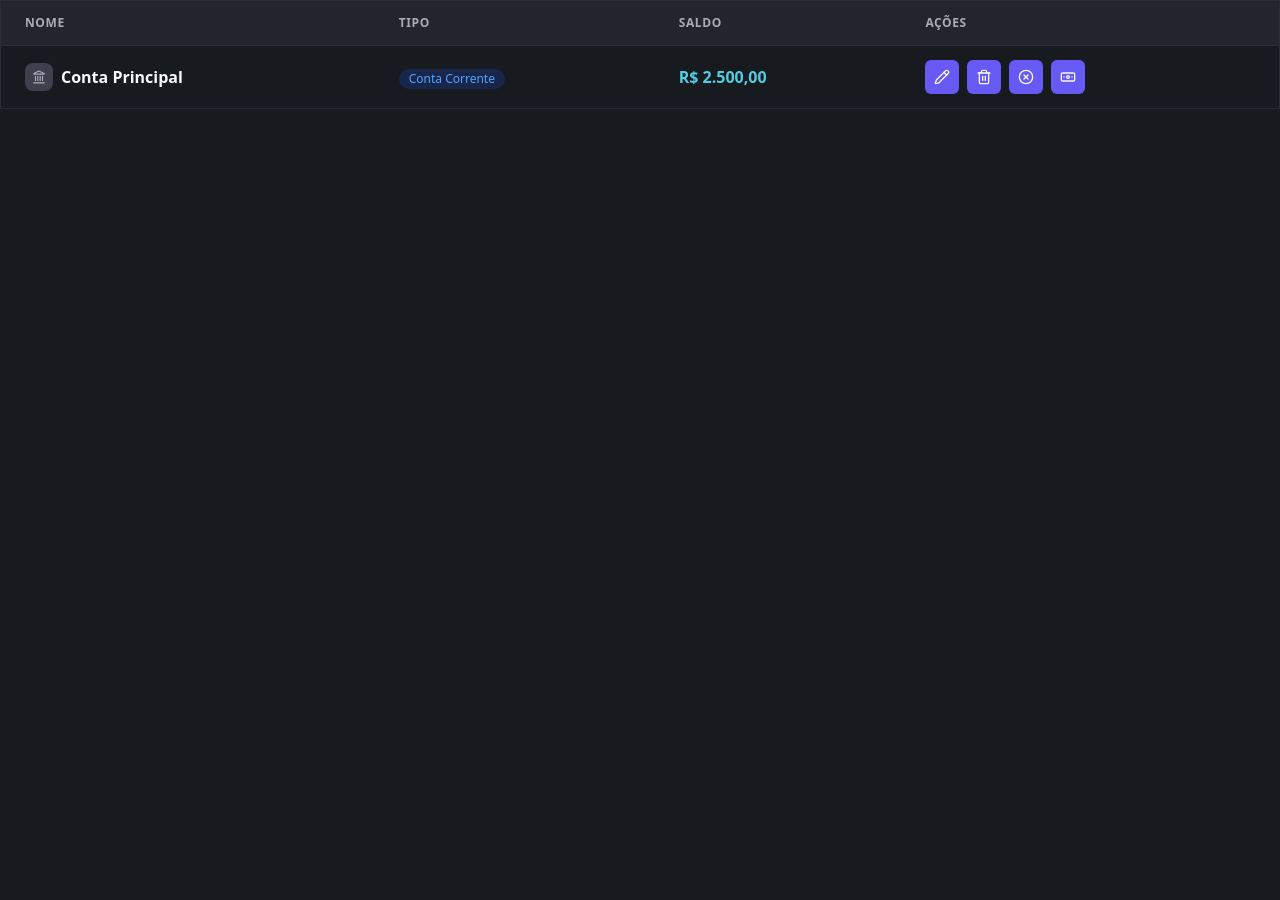
Test case: TabelaContas › modal de exclusão › deve fechar o modal ao clicar em Cancelar
This screenshot has width=1280, height=900.
Click the 2nd button. click: (984, 77)
box: [967,60,1001,94]
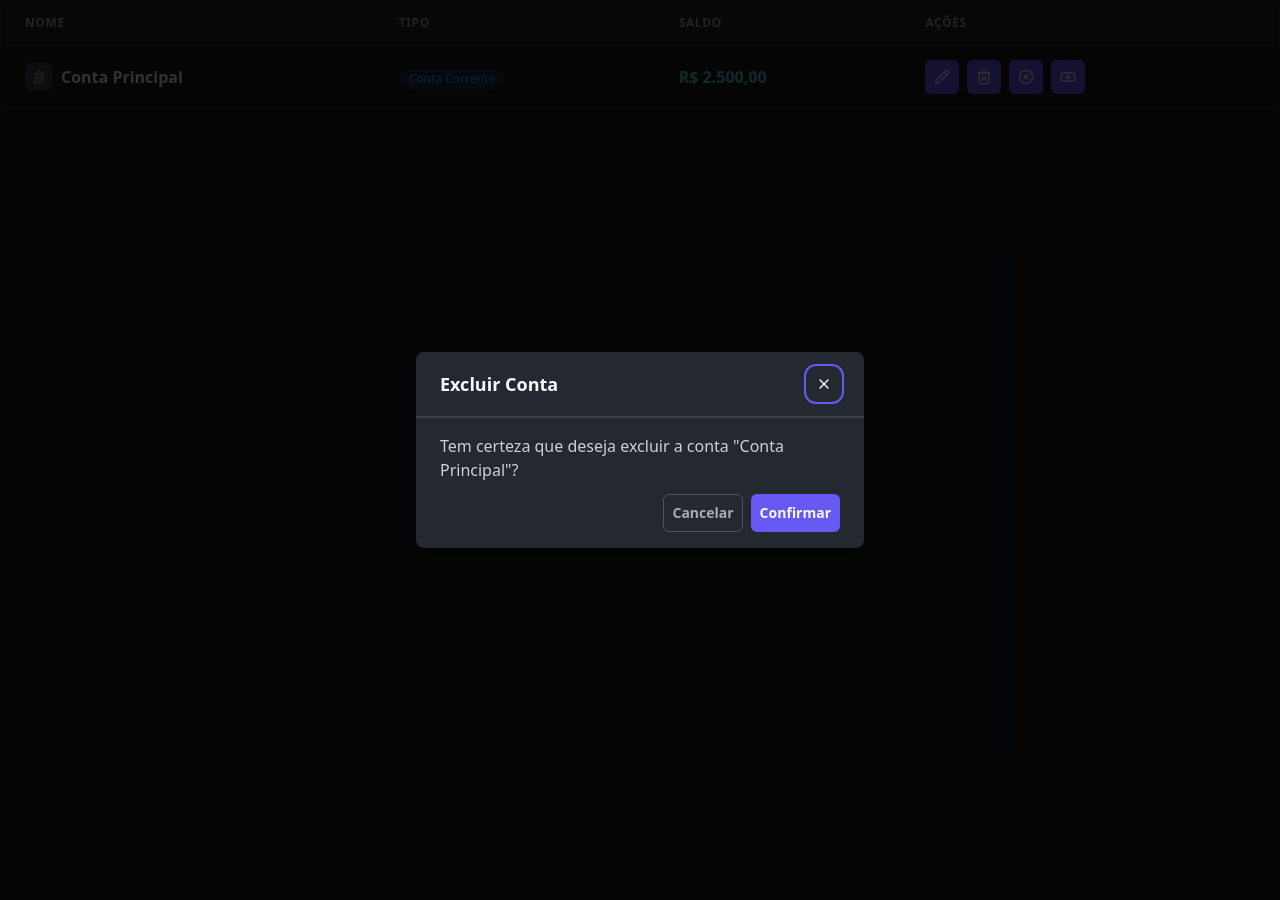
Click the button "Cancelar". click: (703, 513)
box: [664,494,743,532]
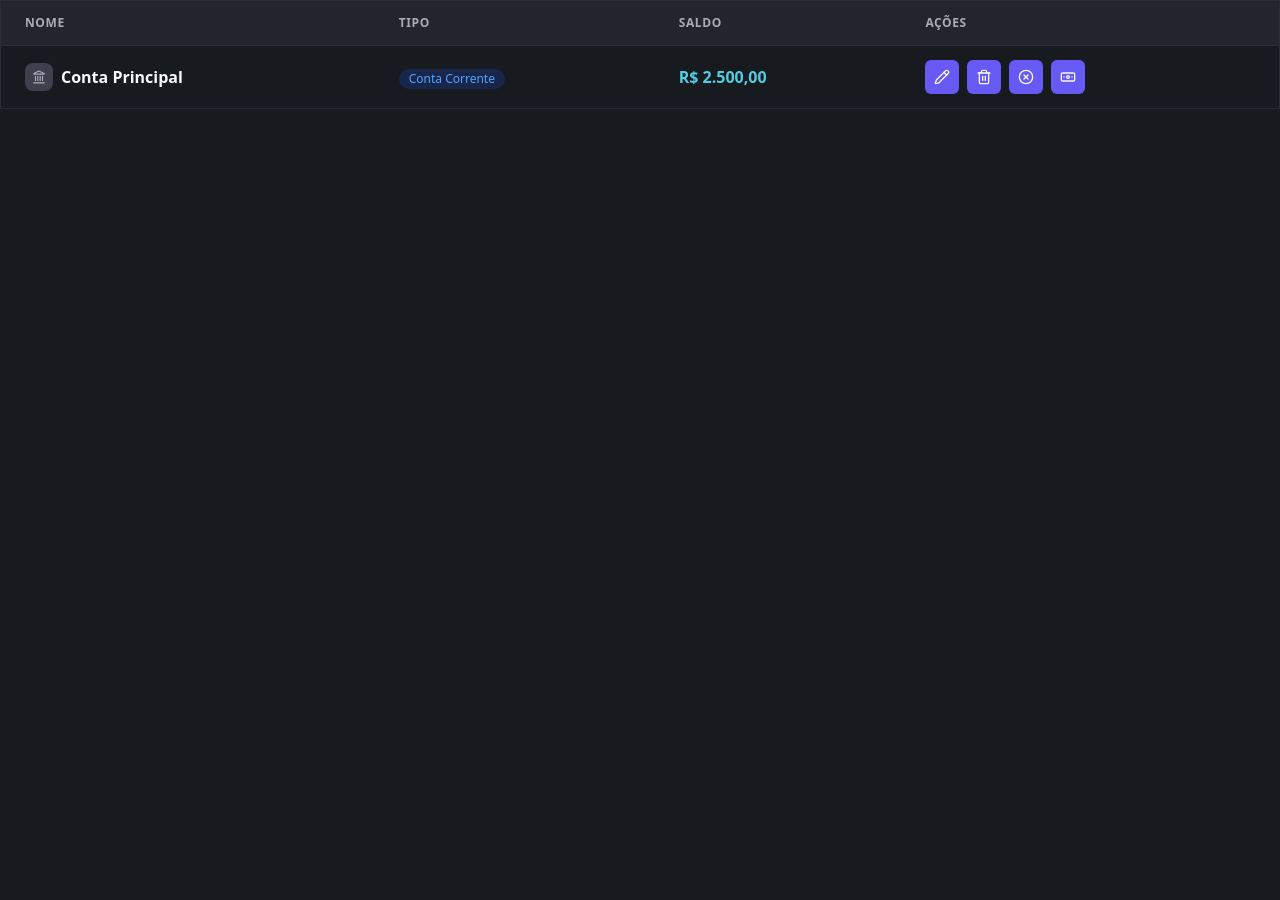
Expected: the heading "Excluir Conta" is gone
